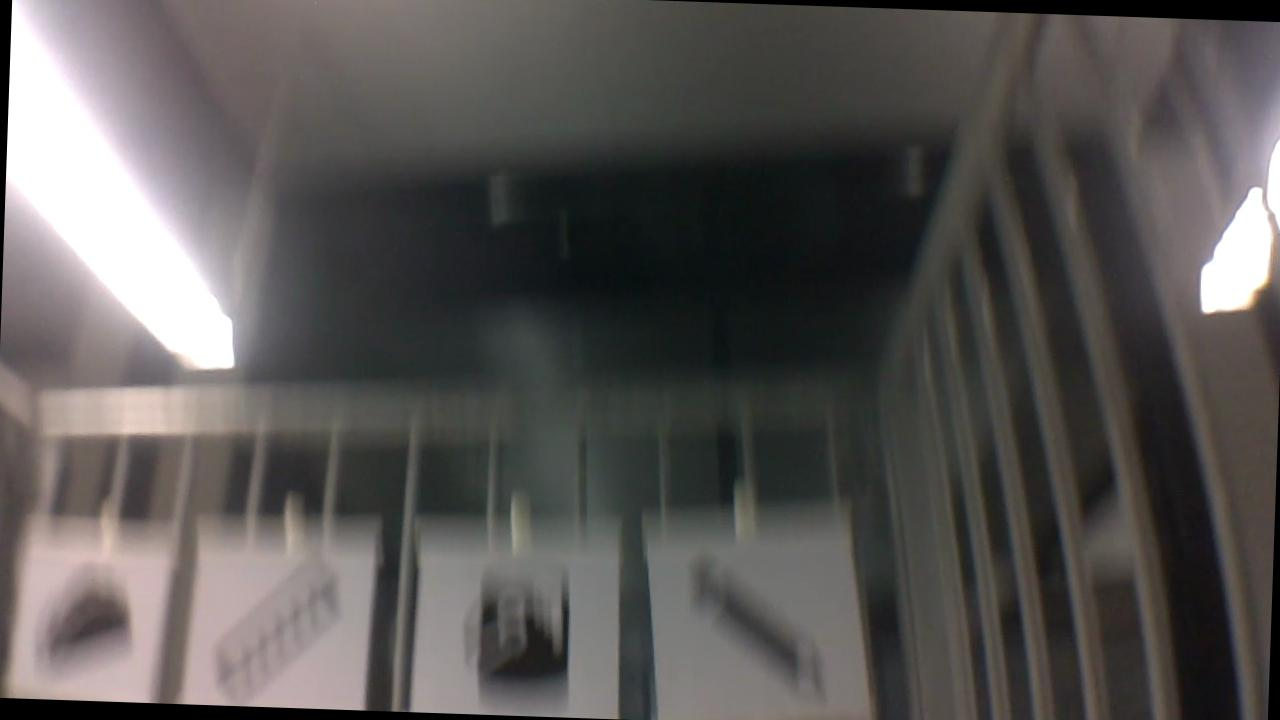bucket: (441, 552, 583, 704)
pencil: (672, 553, 834, 706)
taco: (24, 565, 135, 671)
